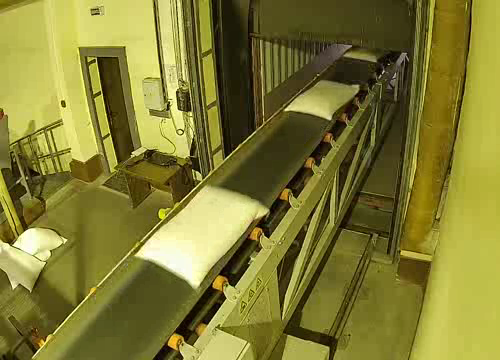bag: (132, 183, 278, 291), (283, 77, 362, 122), (343, 43, 390, 63)
